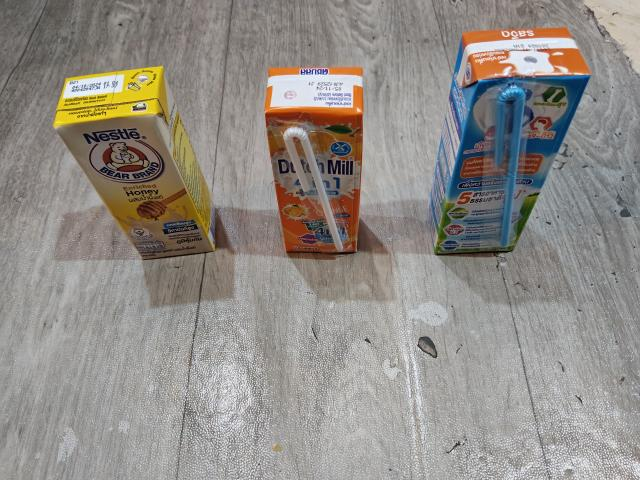drink_box: (417, 17, 598, 263), (39, 61, 225, 270), (263, 64, 372, 263)
